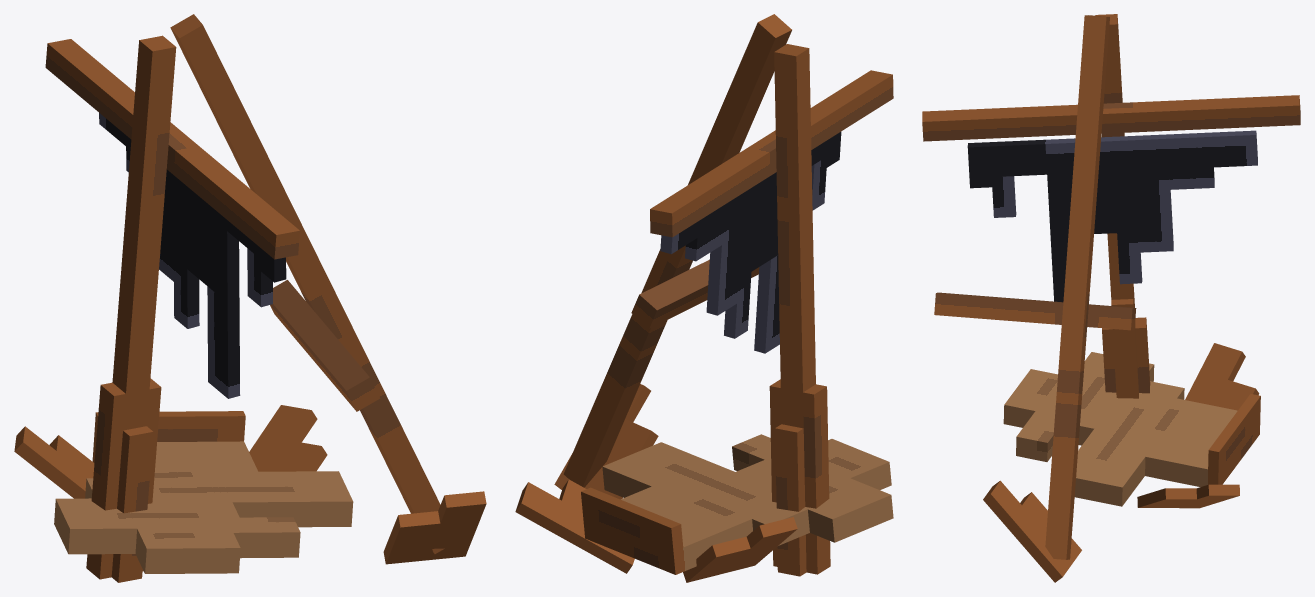
Rendered from wreck_mast.glb.
The picture shows the model from 3 angles, left to right: view 1: azimuth 30°, elevation 25°; view 2: azimuth 150°, elevation 25°; view 3: azimuth 270°, elevation 25°; orthographic projection. The views are drawn at different scales.
Parts seen in each view (by area): view 1: mast_main-Local, wreck023-Local, weigan02-Local, fan-Local, canon22-Local, canon23-Local, canon24-Local; view 2: mast_main-Local, wreck023-Local, weigan02-Local, fan-Local, canon23-Local, canon24-Local, canon22-Local; view 3: wreck023-Local, fan-Local, weigan02-Local, mast_main-Local, canon22-Local, canon24-Local, canon23-Local.
Part boxes in pixels (left/top/right/bottom): mast_main-Local: left=45, top=35, right=299, bottom=582; wreck023-Local: left=54, top=411, right=353, bottom=573; weigan02-Local: left=170, top=14, right=444, bottom=553; fan-Local: left=99, top=113, right=286, bottom=398; canon22-Local: left=383, top=491, right=486, bottom=564; canon23-Local: left=249, top=405, right=327, bottom=471; canon24-Local: left=14, top=426, right=94, bottom=498; mast_main-Local: left=650, top=44, right=893, bottom=576; wreck023-Local: left=581, top=434, right=893, bottom=574; weigan02-Local: left=563, top=14, right=791, bottom=487; fan-Local: left=660, top=132, right=841, bottom=353; canon23-Local: left=515, top=479, right=634, bottom=573; canon24-Local: left=683, top=517, right=797, bottom=582; canon22-Local: left=554, top=384, right=658, bottom=499; wreck023-Local: left=1003, top=352, right=1260, bottom=506; fan-Local: left=967, top=130, right=1257, bottom=302; weigan02-Local: left=934, top=15, right=1136, bottom=559; mast_main-Local: left=922, top=14, right=1300, bottom=398; canon22-Local: left=983, top=480, right=1081, bottom=582; canon24-Local: left=1185, top=343, right=1259, bottom=410; canon23-Local: left=1137, top=484, right=1239, bottom=508.
Bounding box in the file's own units: 31.93 × 46.72 × 34.07.
Materials: 7 (7 with a texture image).
